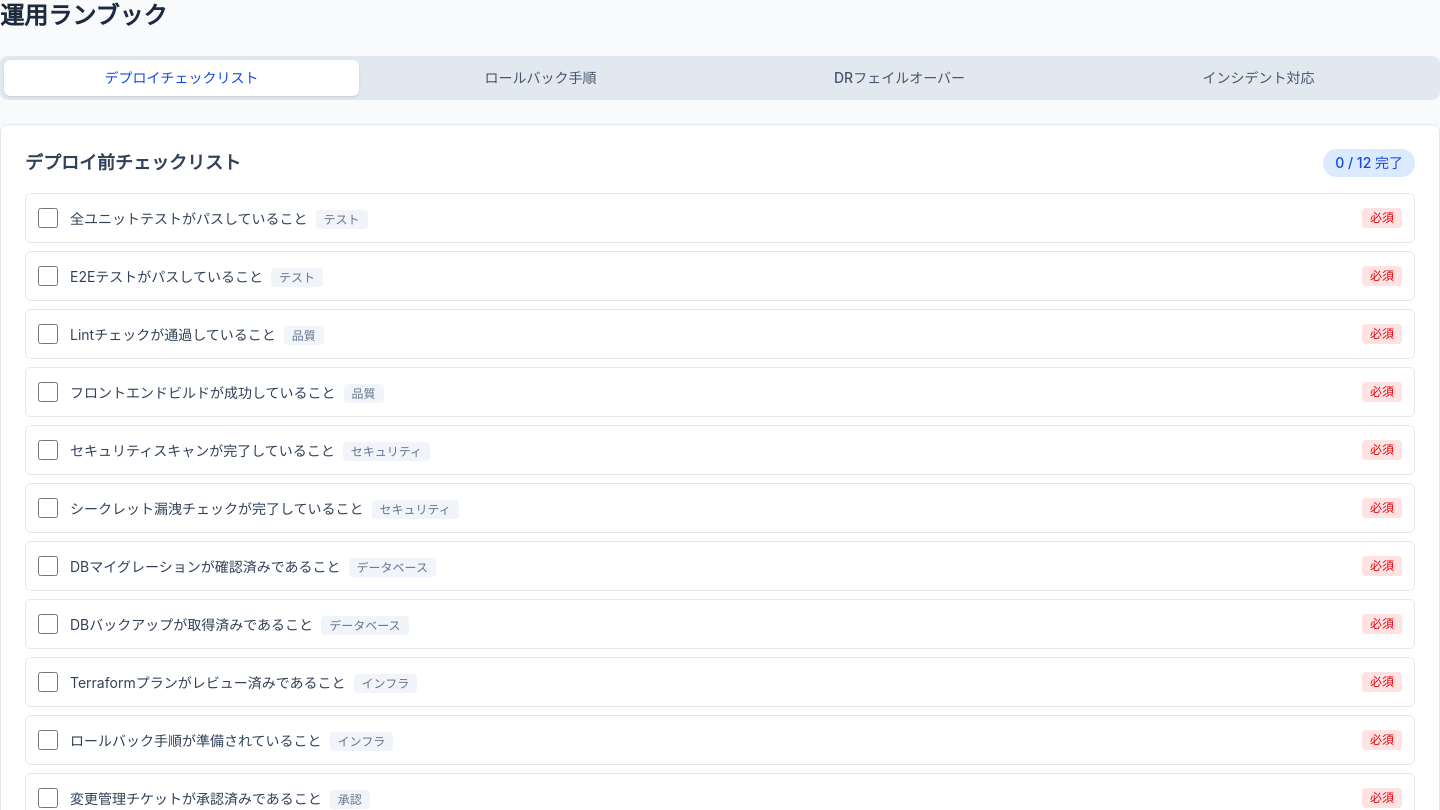
RunbookPage rollback tab › renders rollback step actions
Step 1. Click the button "ロールバック手順" → (540,78), box [363,60,718,96]
(page scrolled)
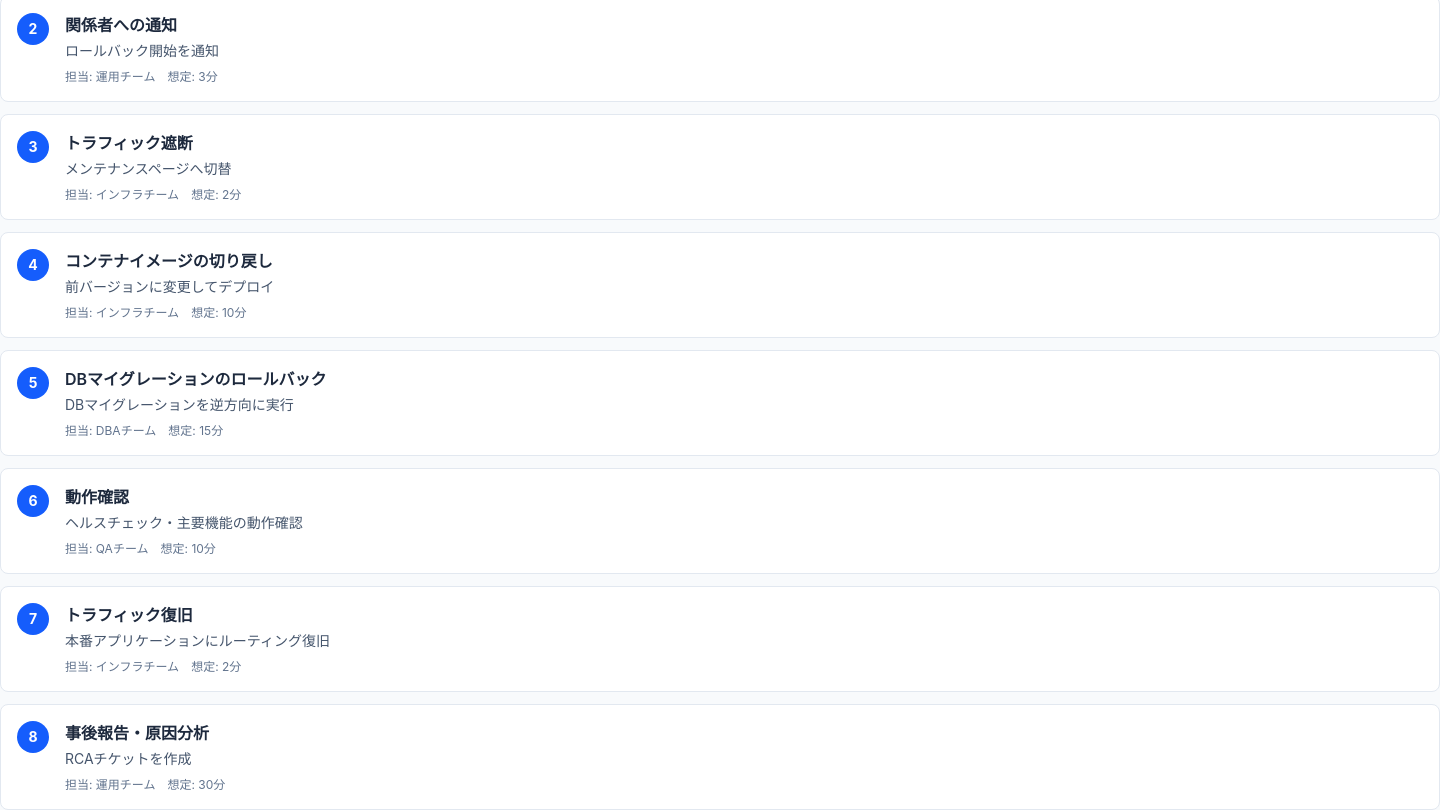
expect the heading "コンテナイメージの切り戻し" is shown: met, box [65,251,273,271]
expect the heading "事後報告・原因分析" is shown: met, box [65,723,209,743]
